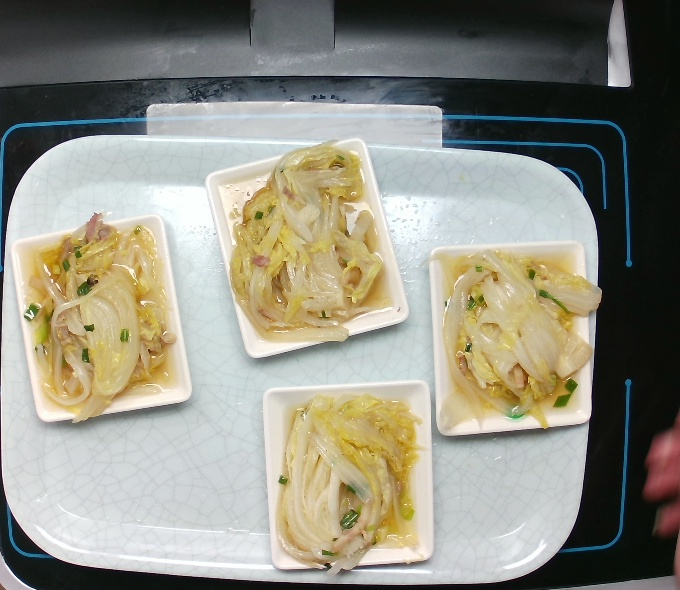wcq-DaBaiCaiRouMou: (215, 141, 400, 347), (17, 210, 182, 428), (420, 246, 609, 432), (270, 392, 427, 578)
